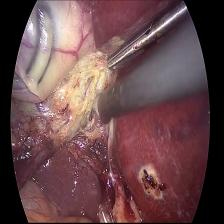Hook: (80, 82, 102, 146)
